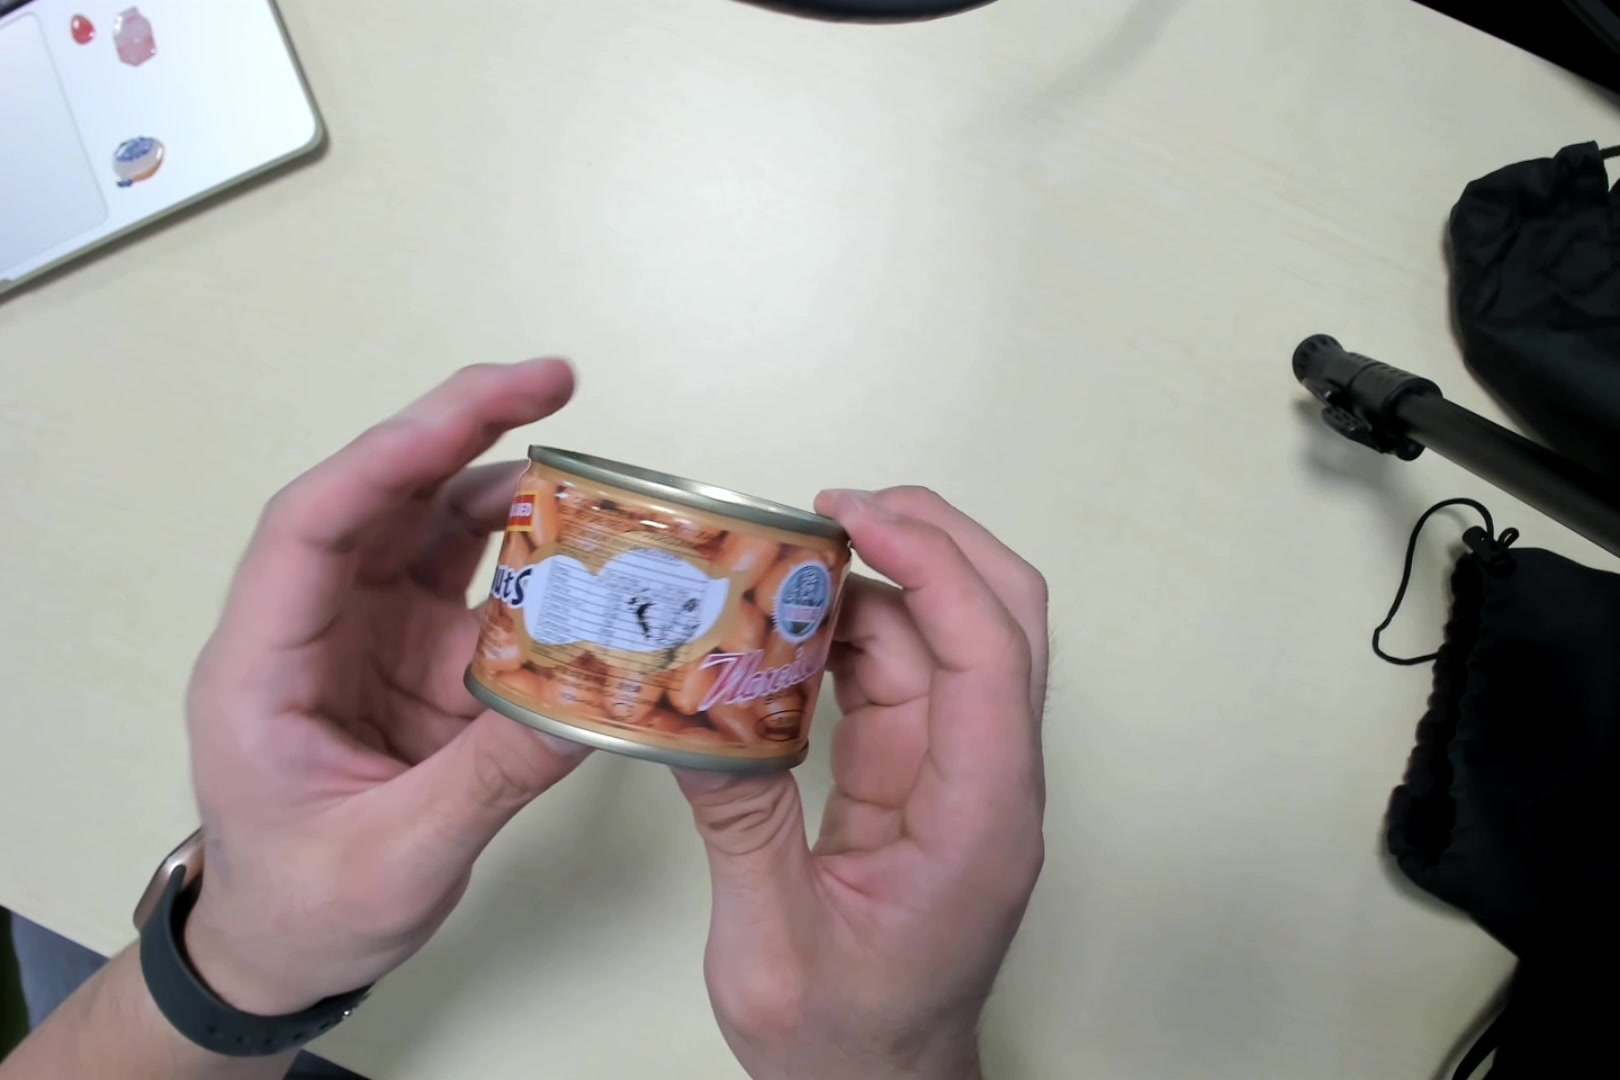CannedBraisedPeanuts_100-199g_NonHalal_NonHealthy: (477, 454, 857, 767)
